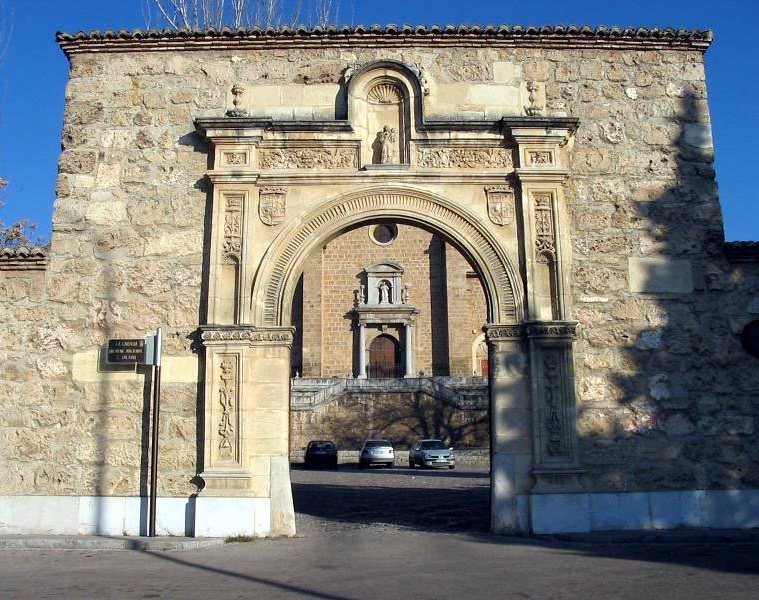arco-medio-punto: (274, 212, 508, 361)
